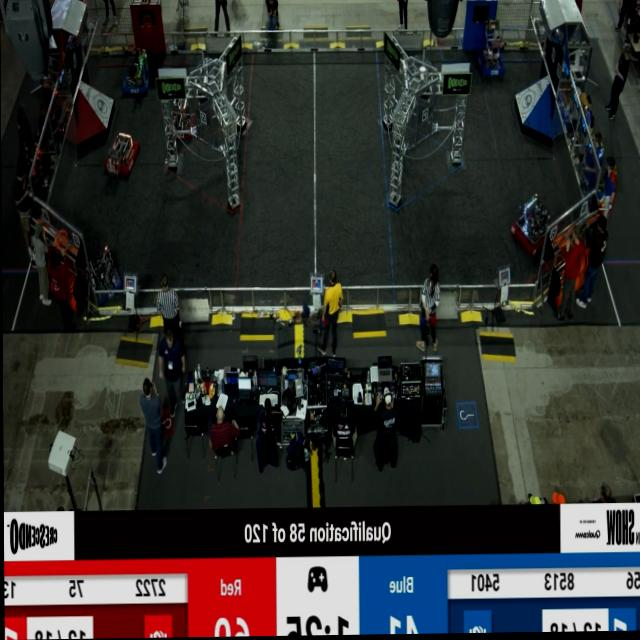Robot: (510, 191, 550, 260), (82, 240, 122, 309), (103, 130, 140, 185), (165, 80, 194, 147), (477, 18, 507, 81), (123, 50, 151, 99)
